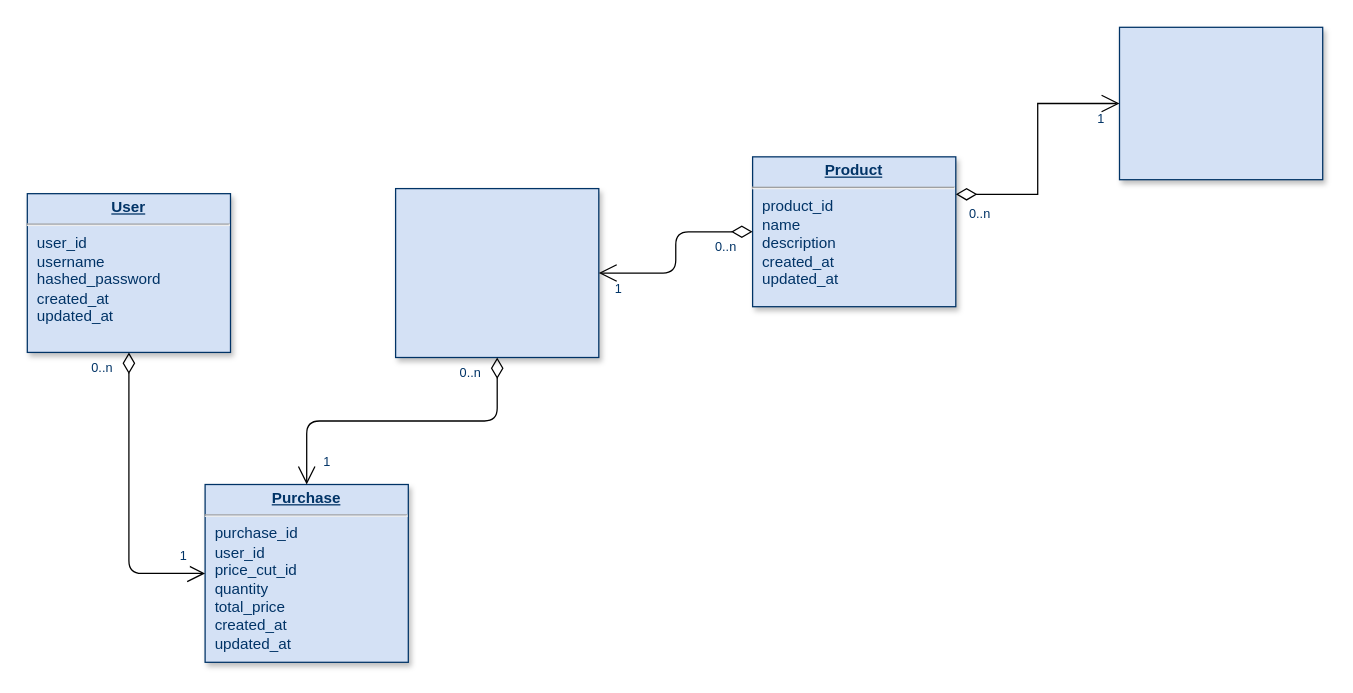
Some shapes in this 1353 by 693 pixel diagram are drawn without their labels. Here are the shapes that lost their labels. From the top down, the centre of each, then its label:
At (1221,105): "Asset asset_id product_id photo_url created_at updated_at".
At (497,274): "PriceCut price_cut_id product_id name price created_at updated_at".
